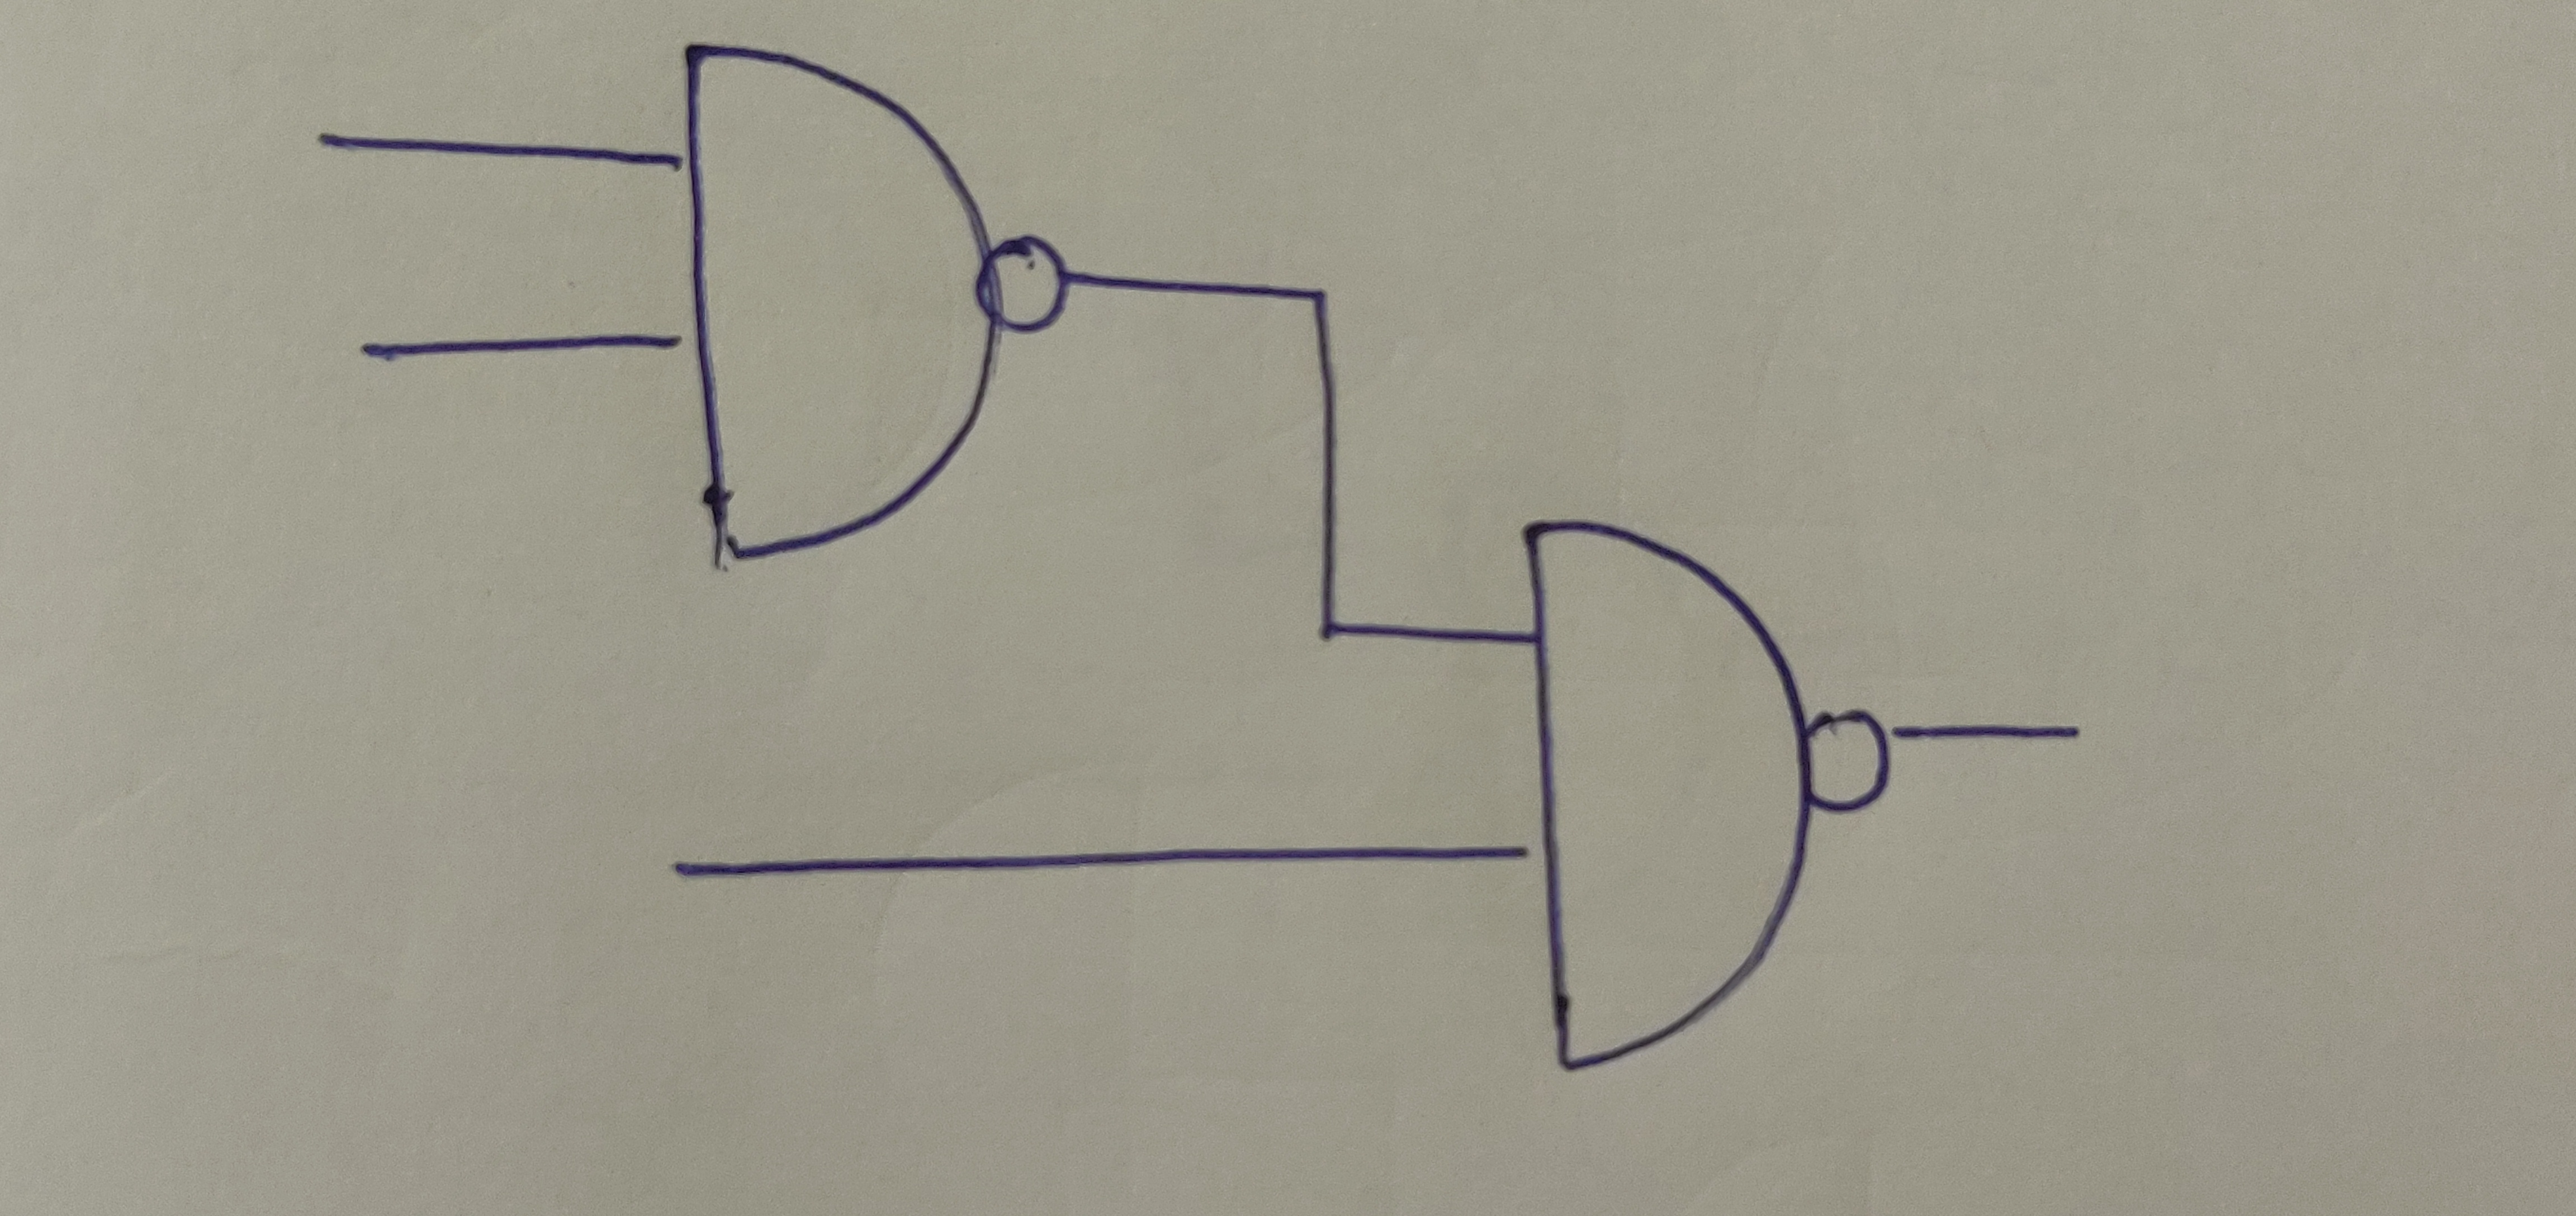and: (1520, 516, 1809, 1070), (687, 41, 991, 557)
not: (1802, 702, 1899, 813), (984, 233, 1078, 337)
